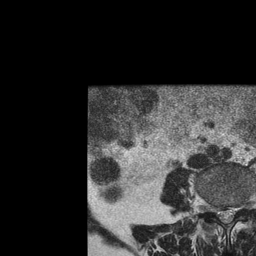CCS_stenosis: (222, 201, 229, 231)
LFS_stenosis: (236, 195, 243, 220)
LLS_normal: (229, 198, 236, 226)
RFS_normal: (207, 194, 215, 222)
RLS_normal: (215, 199, 222, 226)
